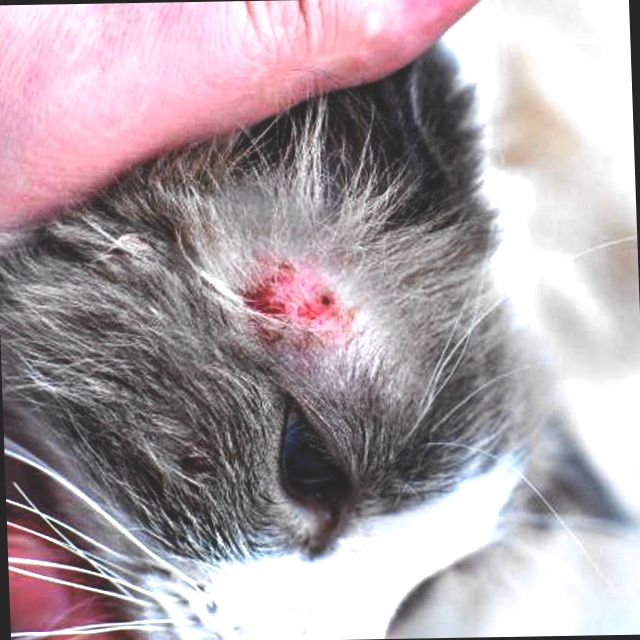ringworm: (240, 260, 356, 330)
